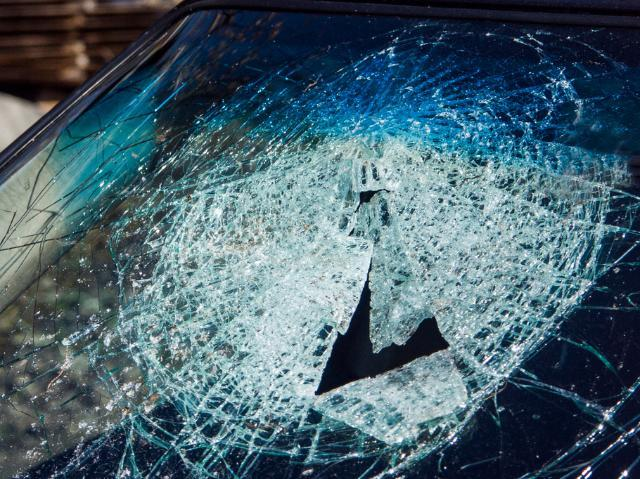Windshield: (0, 7, 640, 479)
